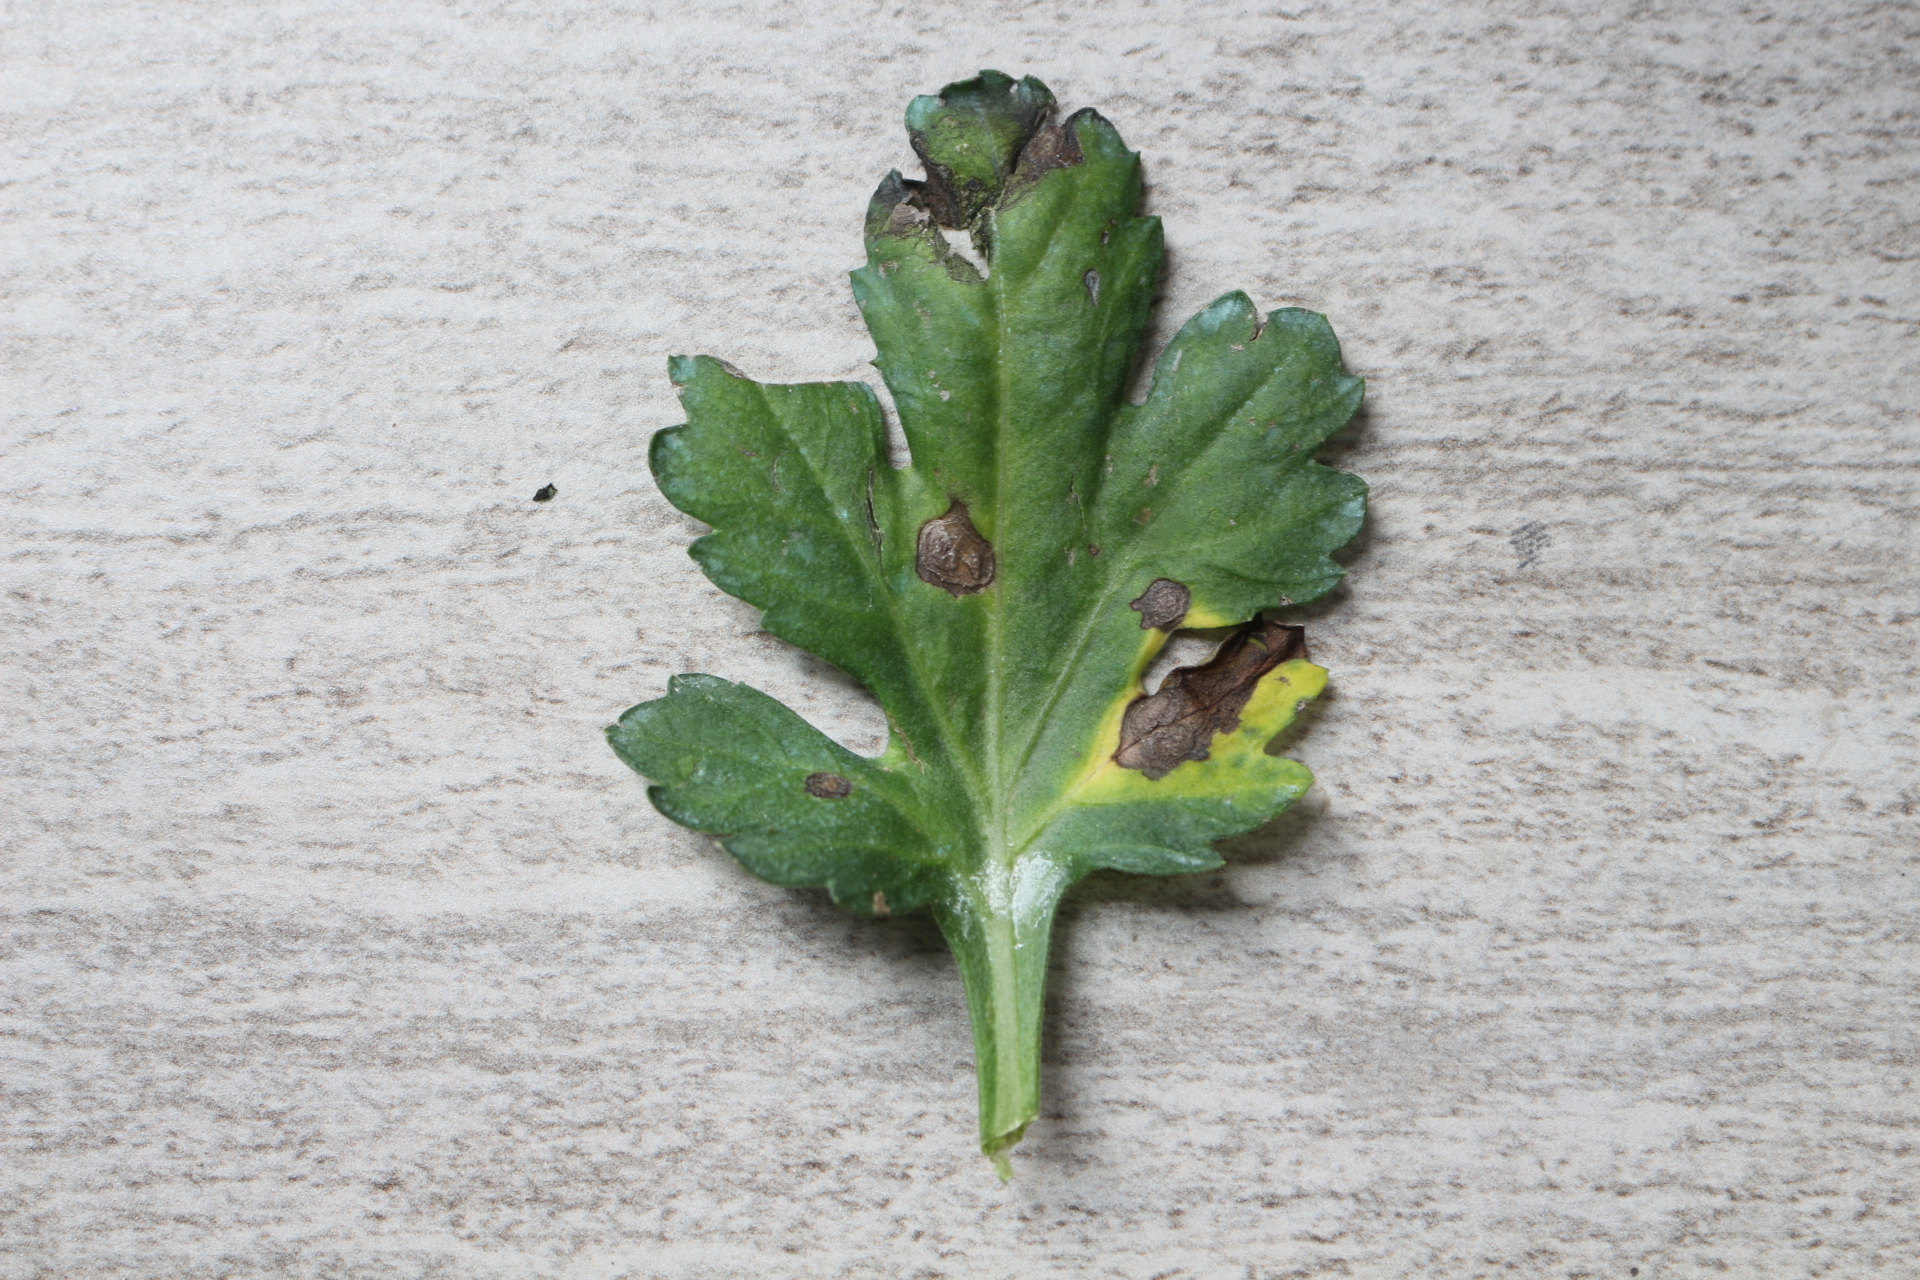namden: (1110, 661, 1289, 766), (909, 507, 1006, 599), (1129, 574, 1196, 637), (793, 766, 859, 809), (1074, 266, 1116, 316)
